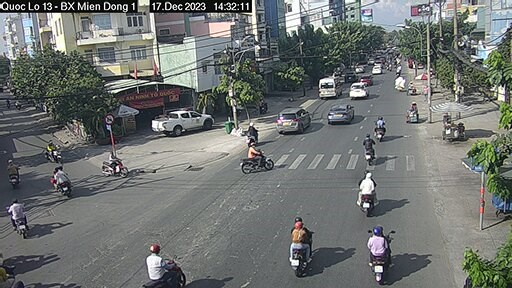car: (149, 107, 216, 139), (273, 104, 312, 138), (240, 145, 275, 174), (313, 76, 345, 99), (325, 101, 355, 124), (349, 80, 369, 100)
motorbike: (364, 226, 392, 278), (288, 220, 316, 271), (354, 170, 378, 214), (9, 200, 34, 237), (101, 149, 123, 175), (50, 173, 74, 195)
